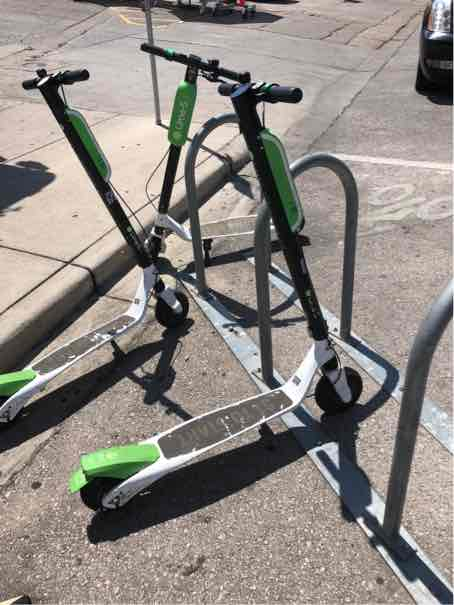scooter: (72, 59, 367, 521), (1, 66, 215, 434), (130, 29, 324, 266)
